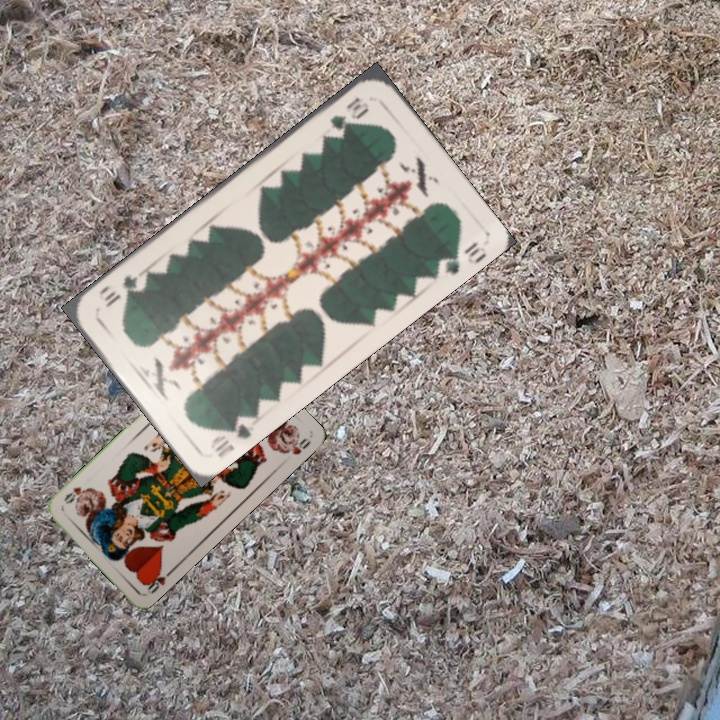G10: (206, 411, 254, 460), (326, 93, 372, 133)
HO: (140, 564, 176, 597)
